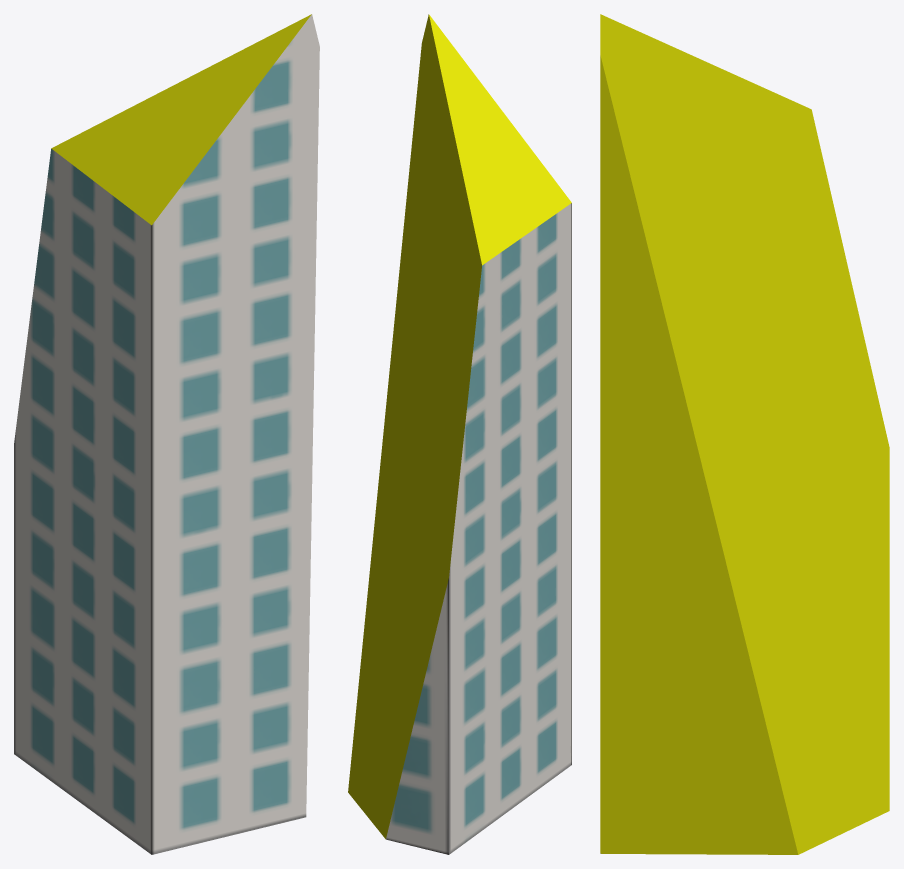
The model's file is paShard3.fbx.
3 renders of one model, left to right at view 1: azimuth 30°, elevation 25°; view 2: azimuth 150°, elevation 25°; view 3: azimuth 270°, elevation 25°, orthographic. The views are drawn at different scales.
Visible parts, largest first — view 1: shard16; view 2: shard16; view 3: shard16.
Part boxes in pixels (left/top/right/bottom): shard16: left=14, top=14, right=319, bottom=854; shard16: left=348, top=14, right=571, bottom=854; shard16: left=600, top=14, right=889, bottom=854.
Bounding box in the file's own units: 0.0646 × 0.2945 × 0.0917.
2 materials, 1 textured.
